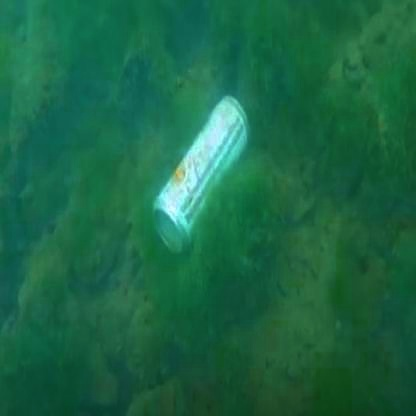can: (156, 80, 236, 245)
